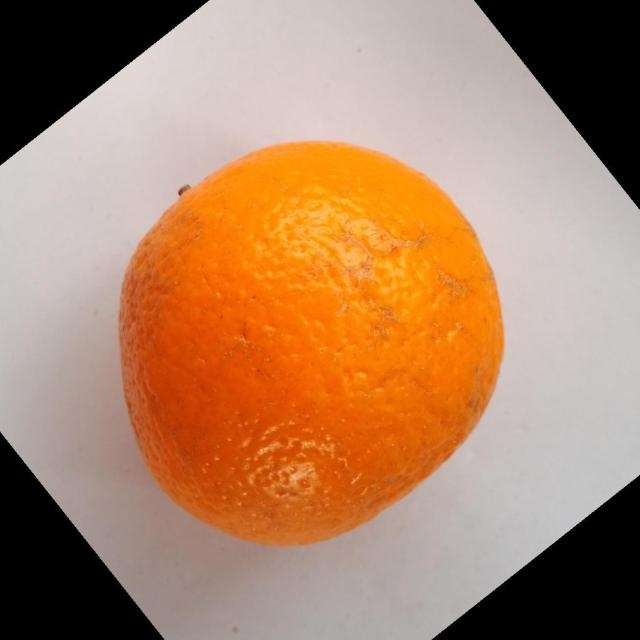agrume: (117, 138, 505, 547)
